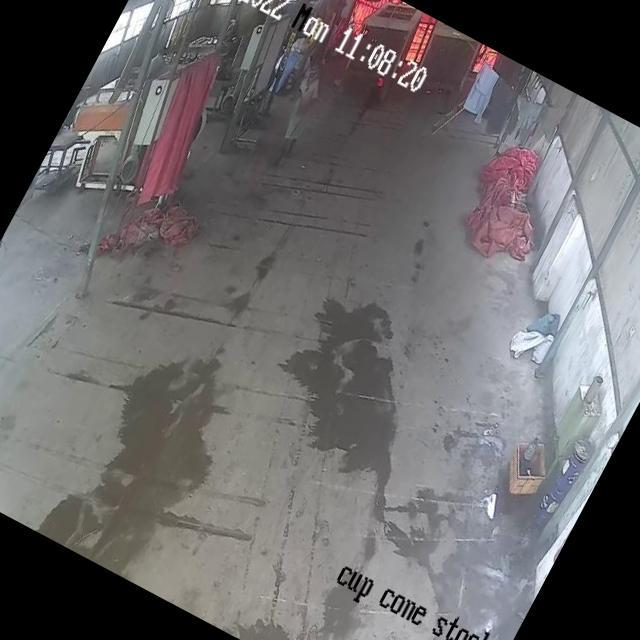person: (264, 61, 339, 163)
